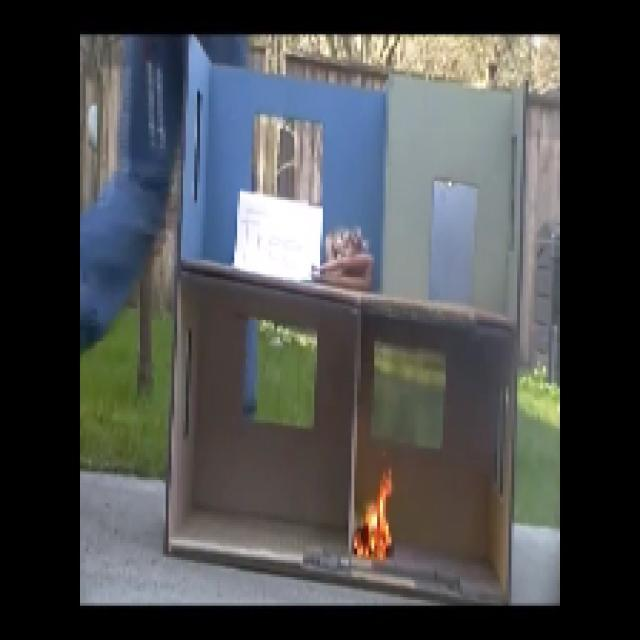Fire: (353, 460, 396, 556)
